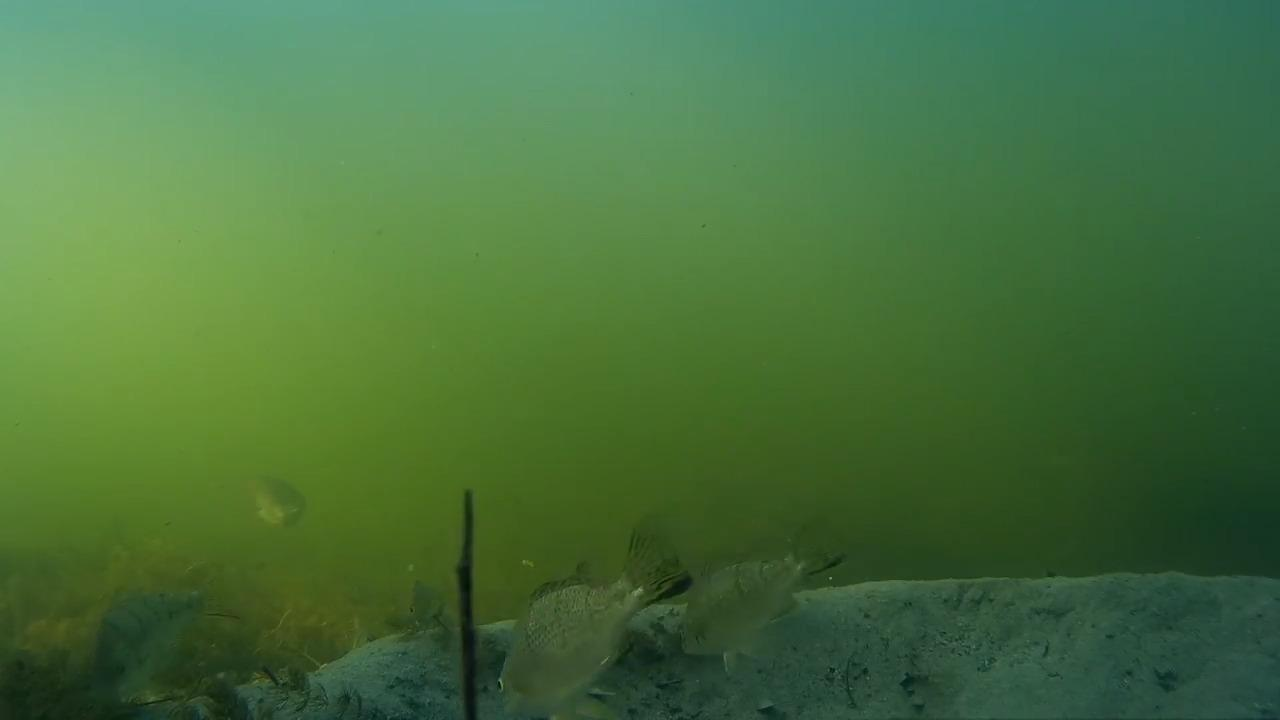Tilapia: (472, 535, 692, 716), (672, 526, 855, 692), (81, 556, 251, 696), (244, 464, 317, 538)
